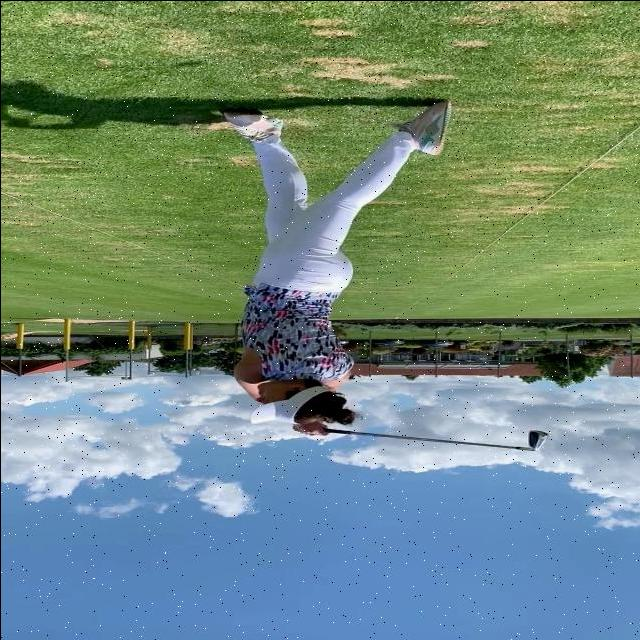golf club-handle: (292, 420, 546, 449)
golf club-head: (521, 429, 542, 448)
